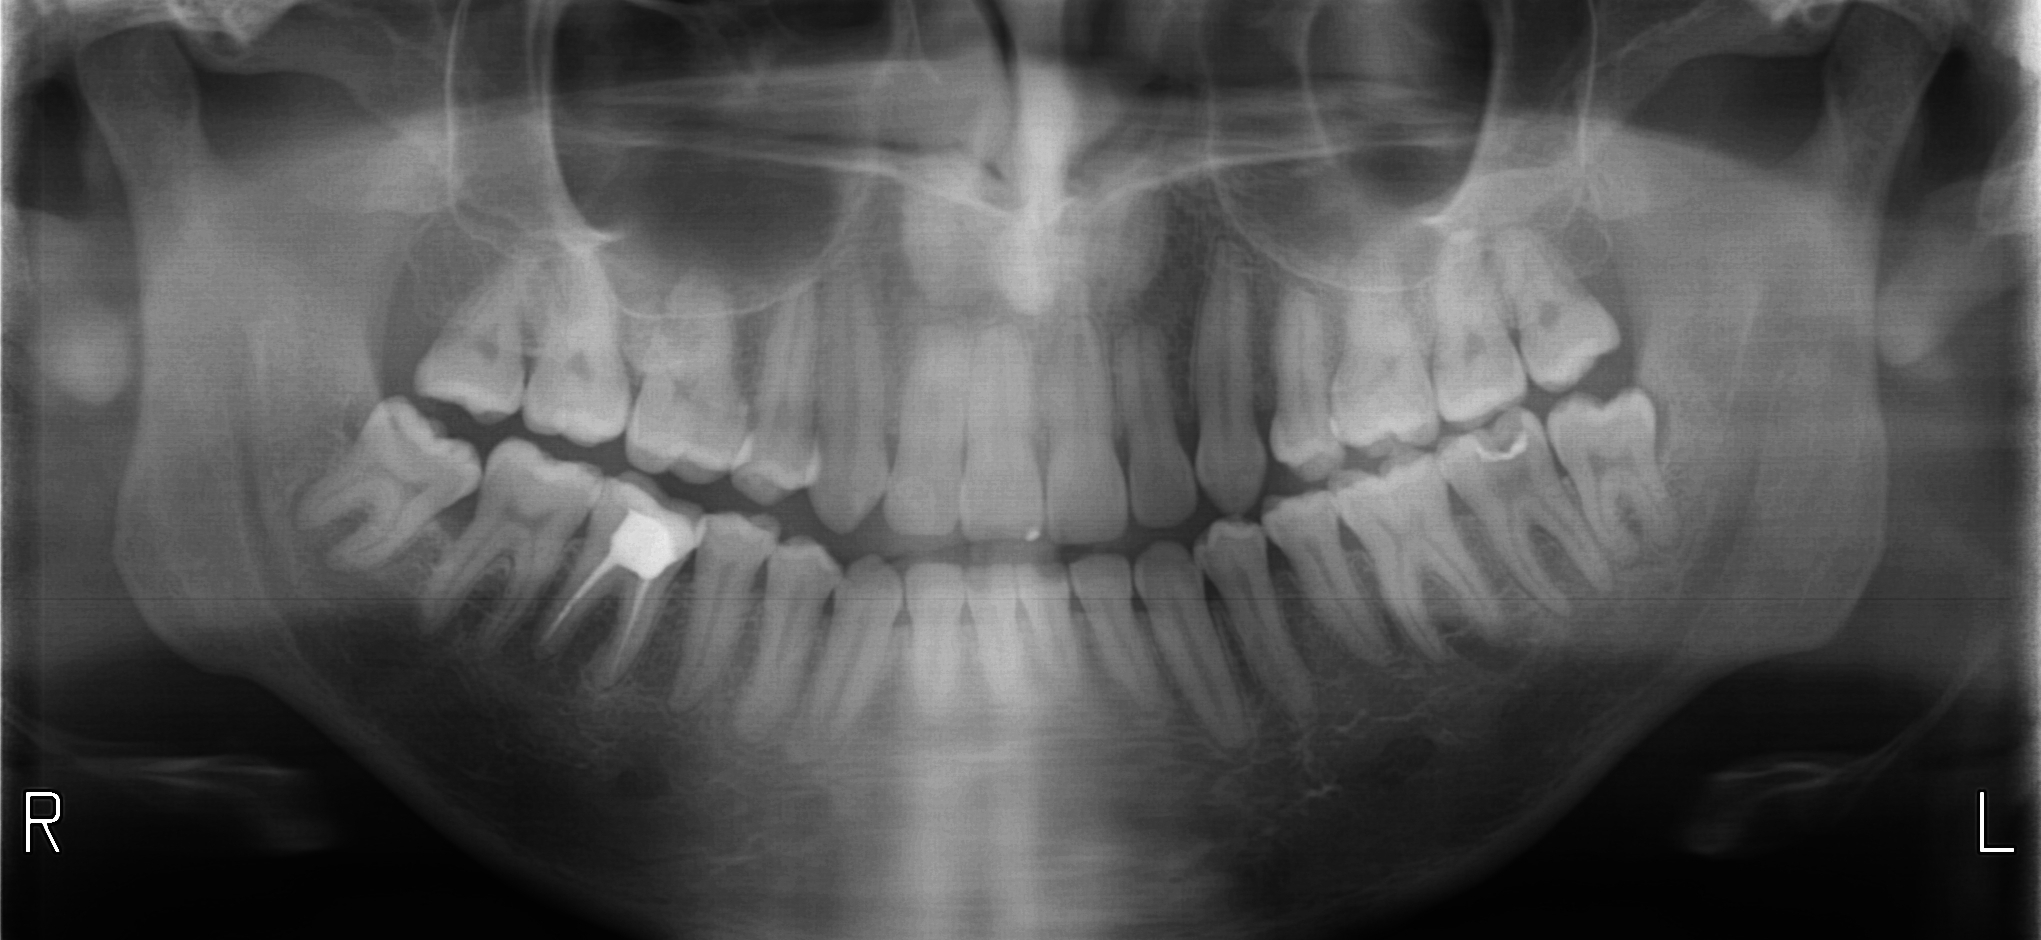cavity: (696, 549, 705, 572)
